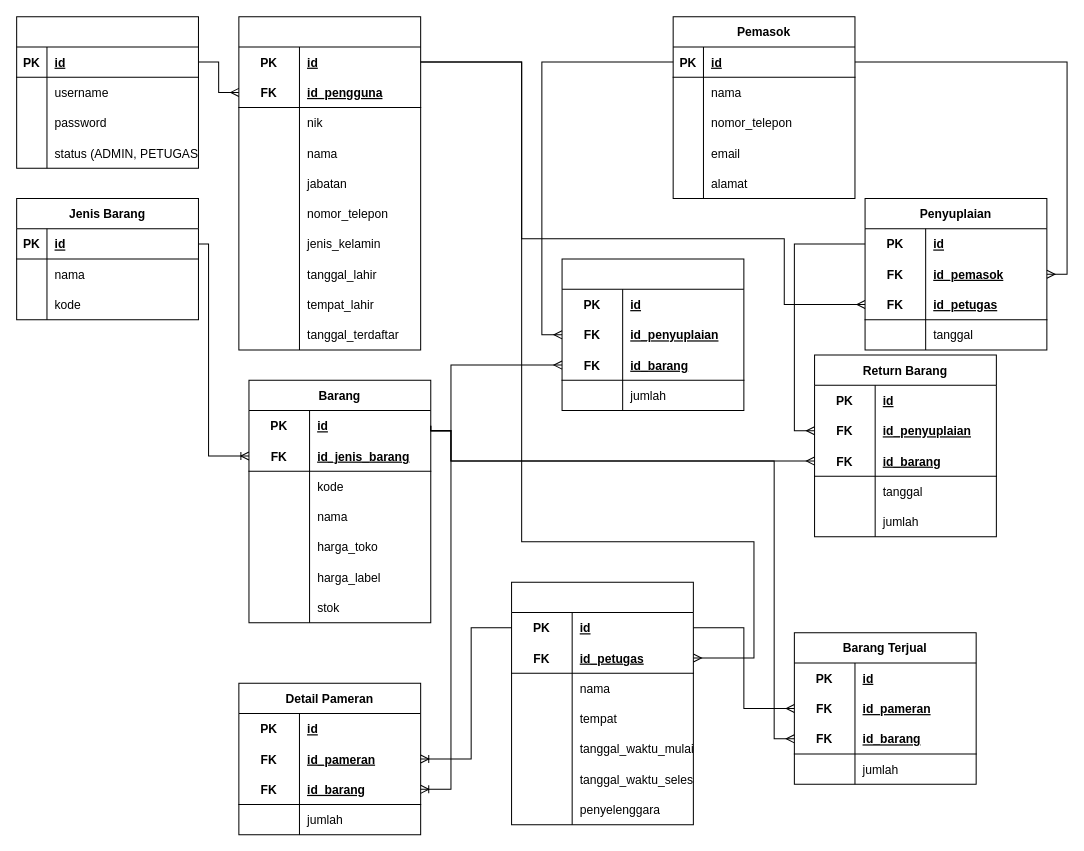
Some shapes in this 1084 by 851 pixel diagram are drawn without their labels. Here are the shapes that lost their labels. From the top down, the box of each, then its label:
(16, 16, 198, 168): Pengguna
(238, 16, 421, 350): Petugas
(561, 258, 744, 411): Detail Penyuplaian
(511, 581, 693, 825): Pameran
